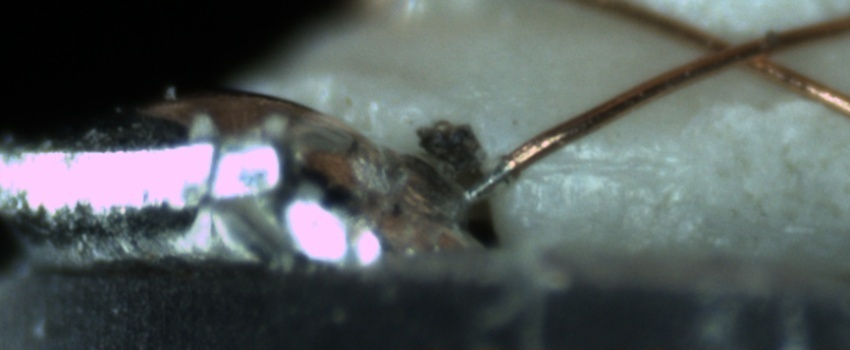CL: (691, 22, 785, 79)
DL: (506, 132, 674, 196)
TS: (464, 160, 513, 204)
TTCW: (457, 139, 539, 205)
